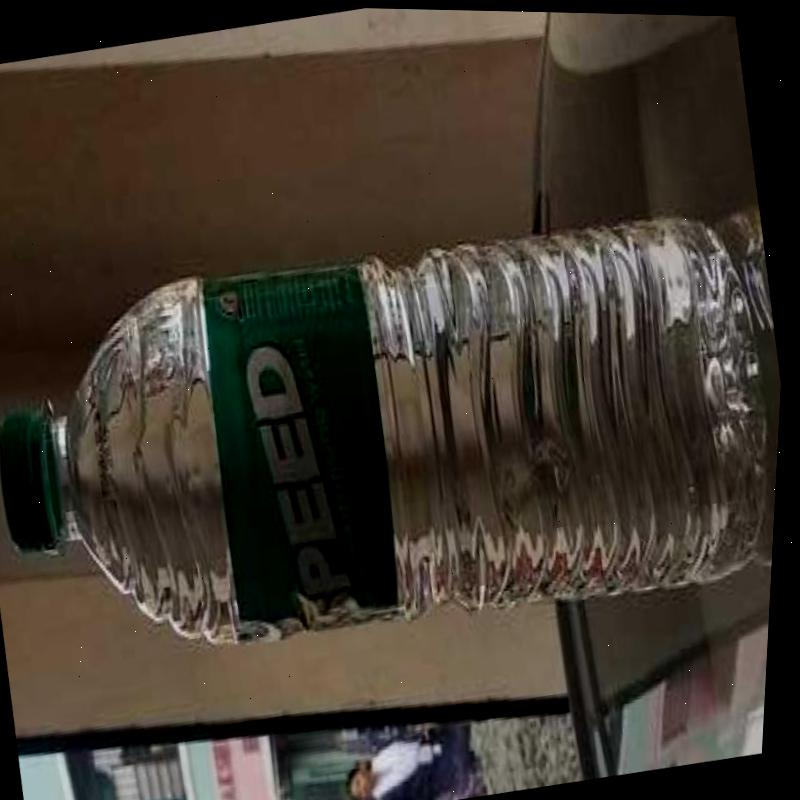botella: (0, 176, 793, 703)
